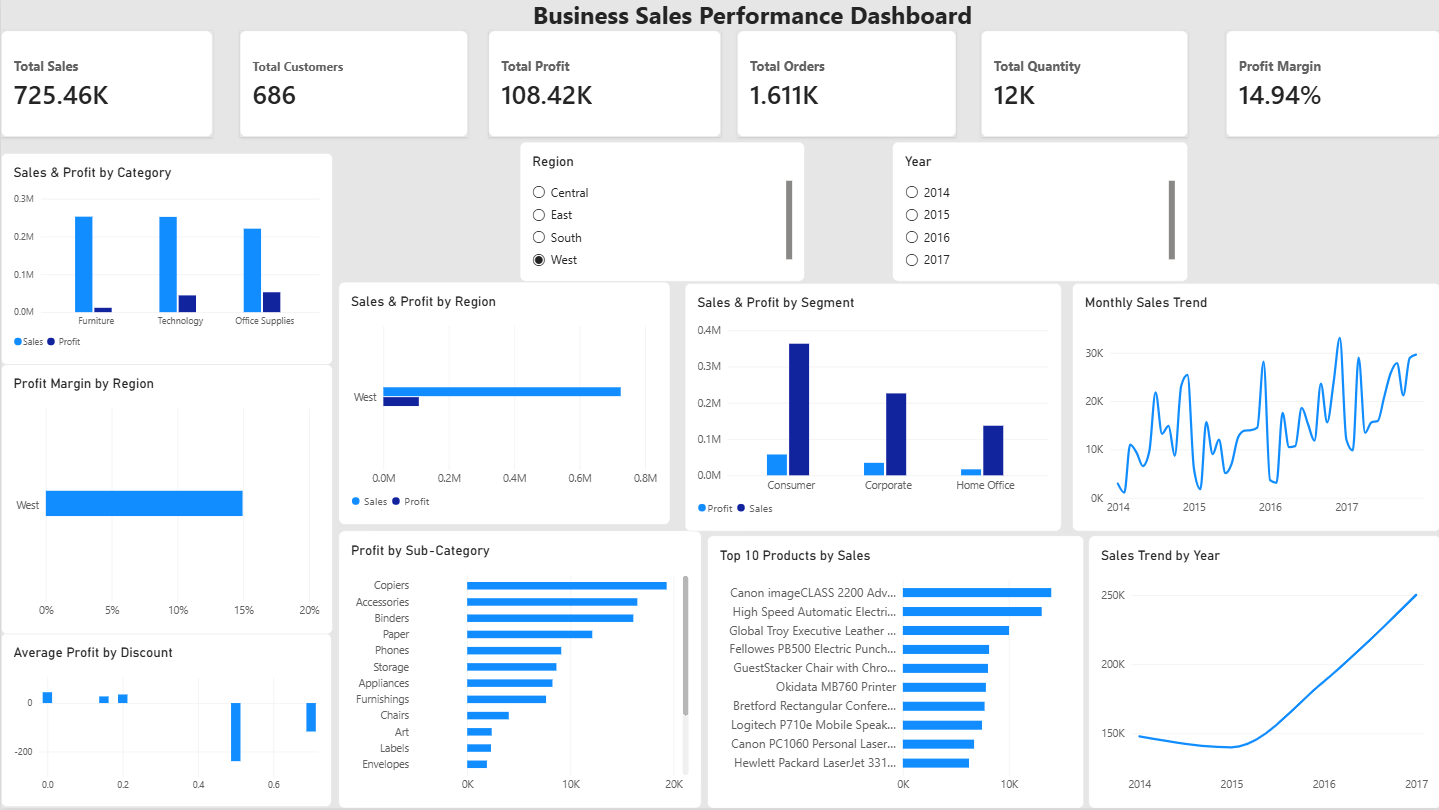

The page's visual inventory and layout, read from the dashboard file:
{"tool":"powerbi","page":{"name":"Page 1","canvas":[1920,1080],"ordinal":0},"visuals":[{"type":"cardVisual","title":"Total Sales","fields":{"Data":["Sum(superstore_cleaned.Sales)"]},"box":[0,44,282,142],"z":0},{"type":"cardVisual","title":"Total Profit","fields":{"Data":["Sum(superstore_cleaned.Profit)"]},"box":[650,44,310,142],"z":1000},{"type":"cardVisual","title":"Total Orders","fields":{"Data":["Count(superstore_cleaned.Order ID)"]},"box":[982,44,292,142],"z":2000},{"type":"cardVisual","title":"Total Customers","fields":{"Data":["Count(superstore_cleaned.Customer ID)"]},"box":[318,44,304,142],"z":3000},{"type":"lineChart","title":"Sales Trend by Year","fields":{"Category":["superstore_cleaned.Order Date.Variation.Date Hierarchy.Year","superstore_cleaned.Order Date.Variation.Date Hierarchy.Quarter","superstore_cleaned.Order Date.Variation.Date Hierarchy.Month","superstore_cleaned.Order Date.Variation.Date Hierarchy.Day"],"Y":["Sum(superstore_cleaned.Sales)"]},"box":[1450,716,470,364],"z":4000},{"type":"clusteredColumnChart","title":"Sales & Profit by Category","fields":{"Category":["superstore_cleaned.Category"],"Y":["Sum(superstore_cleaned.Sales)","Sum(superstore_cleaned.Profit)"]},"box":[0,206,442,282],"z":5000},{"type":"clusteredBarChart","title":"Sales & Profit by Region","fields":{"Category":["superstore_cleaned.Region"],"Y":["Sum(superstore_cleaned.Sales)","Sum(superstore_cleaned.Profit)"]},"box":[450,378,442,324],"z":6000},{"type":"clusteredBarChart","title":"Top 10 Products by Sales","fields":{"Category":["superstore_cleaned.Product Name"],"Y":["Sum(superstore_cleaned.Sales)"]},"box":[942,716,502,364],"z":7000},{"type":"clusteredBarChart","title":"Profit by Sub-Category","fields":{"Category":["superstore_cleaned.Sub-Category"],"Y":["Sum(superstore_cleaned.Profit)"]},"box":[450,710,484,370],"z":8000},{"type":"clusteredColumnChart","title":"Average Profit by Discount","fields":{"Category":["superstore_cleaned.Discount"],"Y":["Avg(superstore_cleaned.Profit)"]},"box":[0,846.7,440.7,232.4],"z":9000},{"type":"clusteredBarChart","fields":{"Category":["superstore_cleaned.Region"],"Y":["superstore_cleaned.Profit Margin"]},"box":[0,488,442,360],"z":10000},{"type":"lineChart","title":"Monthly Sales Trend","fields":{"Category":["superstore_cleaned.Month"],"Y":["Sum(superstore_cleaned.Sales)"]},"box":[1429.1,379.3,491.5,331.2],"z":11000},{"type":"cardVisual","title":"Total Quantity","fields":{"Data":["Sum(superstore_cleaned.Quantity)"]},"box":[1306,44,276,142],"z":12000},{"type":"cardVisual","fields":{"Data":["superstore_cleaned.Profit Margin"]},"box":[1634,44,286,142],"z":13000},{"type":"clusteredColumnChart","title":"Sales & Profit by Segment","fields":{"Category":["superstore_cleaned.Segment"],"Y":["Sum(superstore_cleaned.Profit)","Sum(superstore_cleaned.Sales)"]},"box":[910.9,379.3,502.2,331.2],"z":14000},{"type":"listSlicer","fields":{"Values":["superstore_cleaned.Year"]},"box":[1188.7,192.3,394,186],"z":15000},{"type":"listSlicer","fields":{"Values":["superstore_cleaned.Region"]},"box":[691.8,192.3,380,186],"z":16000},{"type":"textbox","box":[464.8,0,1073.8,58.8],"z":17000}]}

Visuals, with their boxes in screenshot pixels (x1, y1, x2, y2), scaled from the page's 1920x1080 canvas onto the 1439x810 screenshot:
"Total Sales" cardVisual: rect(0, 33, 211, 140)
"Total Profit" cardVisual: rect(487, 33, 720, 140)
"Total Orders" cardVisual: rect(736, 33, 955, 140)
"Total Customers" cardVisual: rect(238, 33, 466, 140)
"Sales Trend by Year" lineChart: rect(1087, 537, 1438, 809)
"Sales & Profit by Category" clusteredColumnChart: rect(0, 154, 331, 366)
"Sales & Profit by Region" clusteredBarChart: rect(337, 284, 669, 526)
"Top 10 Products by Sales" clusteredBarChart: rect(706, 537, 1082, 809)
"Profit by Sub-Category" clusteredBarChart: rect(337, 532, 700, 809)
"Average Profit by Discount" clusteredColumnChart: rect(0, 635, 330, 809)
clusteredBarChart - superstore_cleaned.Region x superstore_cleaned.Profit Margin: rect(0, 366, 331, 636)
"Monthly Sales Trend" lineChart: rect(1071, 284, 1438, 533)
"Total Quantity" cardVisual: rect(979, 33, 1186, 140)
cardVisual - superstore_cleaned.Profit Margin: rect(1225, 33, 1438, 140)
"Sales & Profit by Segment" clusteredColumnChart: rect(683, 284, 1059, 533)
listSlicer - superstore_cleaned.Year: rect(891, 144, 1186, 284)
listSlicer - superstore_cleaned.Region: rect(518, 144, 803, 284)
textbox: rect(348, 0, 1153, 44)
